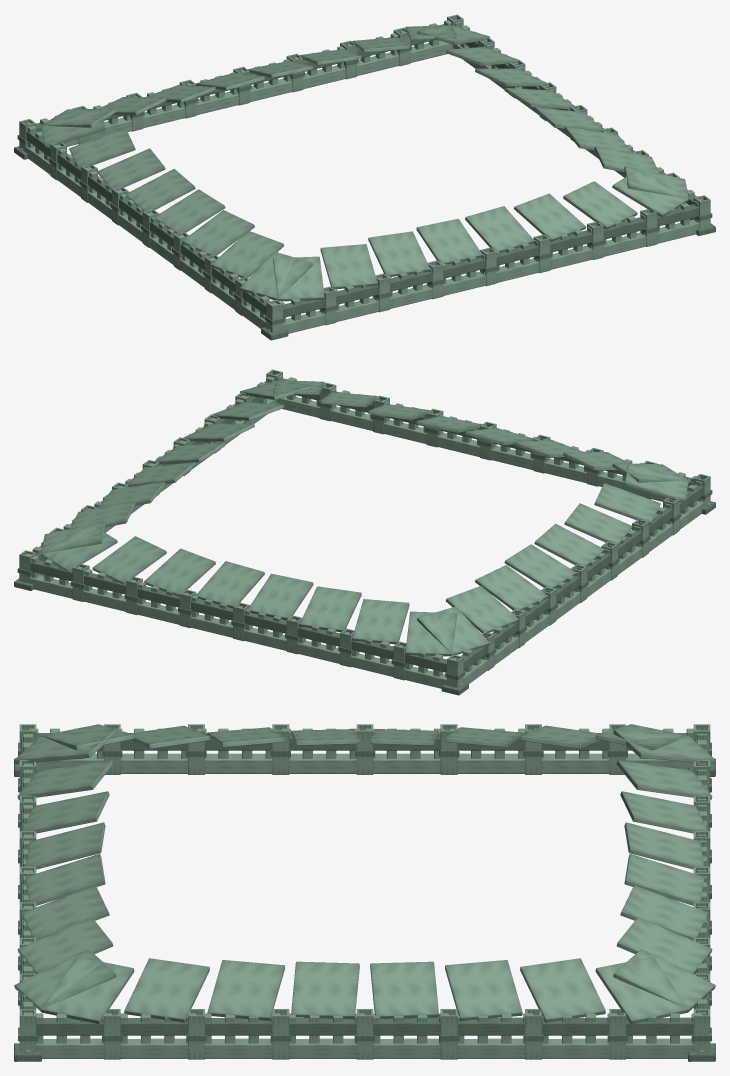
3 renders of one model, top to bottom at view 1: azimuth 30°, elevation 25°; view 2: azimuth 150°, elevation 25°; view 3: azimuth 270°, elevation 25°, orthographic. The views are drawn at different scales.
Parts seen in each view (by area): view 1: Crown alloy petal 0-1, Crown alloy petal 0-2, Crown alloy petal 0-3, Crown alloy petal 0-4, Crown alloy petal 3-6, Crown alloy petal 0-5, Crown alloy petal 0-6, Crown alloy petal 3-5, Crown alloy petal 3-4, Crown alloy petal 0-0, Crown alloy petal 3-3, Crown alloy petal 3-7 (+33 smaller); view 2: Crown alloy petal 2-6, Crown alloy petal 2-5, Crown alloy petal 2-4, Crown alloy petal 2-3, Crown alloy petal 3-1, Crown alloy petal 2-2, Crown alloy petal 2-1, Crown alloy petal 3-2, Crown alloy petal 3-3, Crown alloy petal 2-7, Crown alloy petal 3-4, Crown alloy petal 3-0 (+33 smaller); view 3: Crown alloy petal 1-1, Crown alloy petal 1-6, Crown alloy petal 1-5, Crown alloy petal 1-2, Crown alloy petal 1-3, Crown alloy petal 1-4, Crown alloy petal 1-7, Crown alloy petal 1-0, Crown alloy petal 2-1, Crown alloy petal 0-6, Crown alloy petal 2-2, Crown alloy petal 0-5 (+56 smaller).
Part boxes in pixels (<box>): Crown alloy petal 0-1: <box>320,244,377,288</box>; Crown alloy petal 0-2: <box>368,231,430,276</box>; Crown alloy petal 0-3: <box>416,218,482,264</box>; Crown alloy petal 0-4: <box>465,206,534,252</box>; Crown alloy petal 3-6: <box>211,231,283,277</box>; Crown alloy petal 0-5: <box>514,193,586,241</box>; Crown alloy petal 0-6: <box>563,181,637,229</box>; Crown alloy petal 3-5: <box>182,210,254,255</box>; Crown alloy petal 3-4: <box>153,189,225,233</box>; Crown alloy petal 0-0: <box>273,256,324,301</box>; Crown alloy petal 3-3: <box>125,168,195,211</box>; Crown alloy petal 3-7: <box>240,251,312,299</box>; Crown alloy petal 2-6: <box>352,599,409,644</box>; Crown alloy petal 2-5: <box>299,586,361,632</box>; Crown alloy petal 2-4: <box>247,573,313,620</box>; Crown alloy petal 2-3: <box>195,561,264,608</box>; Crown alloy petal 3-1: <box>446,586,519,632</box>; Crown alloy petal 2-2: <box>144,548,215,596</box>; Crown alloy petal 2-1: <box>92,536,166,584</box>; Crown alloy petal 3-2: <box>475,565,547,610</box>; Crown alloy petal 3-3: <box>504,544,576,588</box>; Crown alloy petal 2-7: <box>405,611,456,656</box>; Crown alloy petal 3-4: <box>534,523,604,566</box>; Crown alloy petal 3-0: <box>417,606,489,654</box>; Crown alloy petal 1-1: <box>124,958,209,1022</box>; Crown alloy petal 1-6: <box>520,958,605,1022</box>; Crown alloy petal 1-5: <box>445,960,522,1020</box>; Crown alloy petal 1-2: <box>207,960,284,1020</box>; Crown alloy petal 1-3: <box>291,961,359,1019</box>; Crown alloy petal 1-4: <box>370,961,438,1018</box>; Crown alloy petal 1-7: <box>595,957,688,1023</box>; Crown alloy petal 1-0: <box>41,957,134,1023</box>; Crown alloy petal 2-1: <box>616,917,712,973</box>; Crown alloy petal 0-6: <box>17,917,113,974</box>; Crown alloy petal 2-2: <box>620,885,708,940</box>; Crown alloy petal 0-5: <box>21,885,109,940</box>.
Size of the model in its own units: 3.75 by 0.3686 by 3.75.
2 materials, 2 textured.
